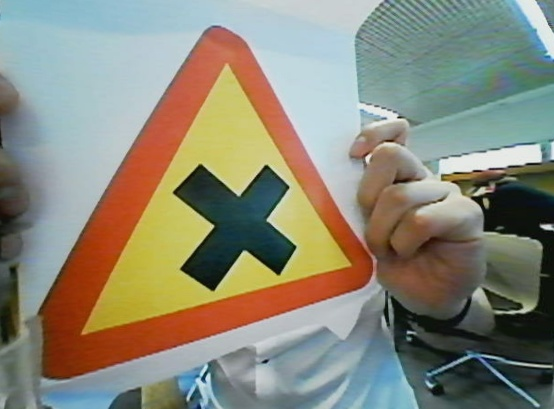junction: (28, 26, 391, 358)
